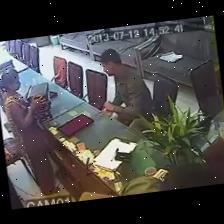person: (0, 69, 58, 195), (101, 49, 153, 126)
